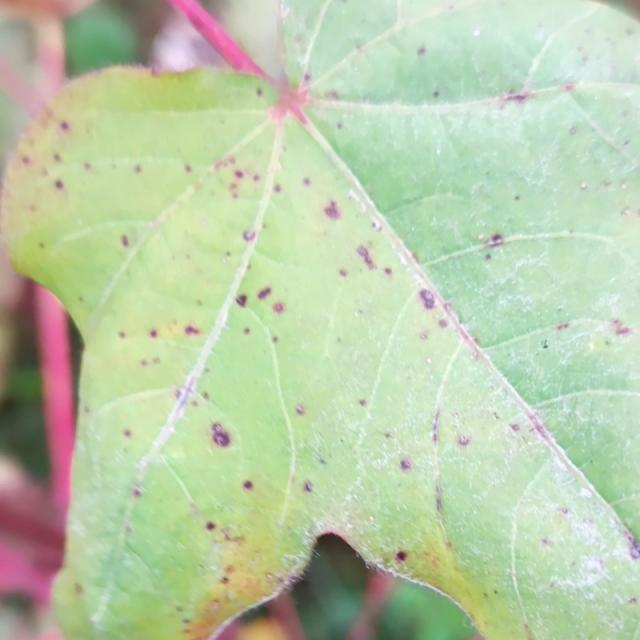Bacterial_Blight: (117, 303, 219, 367), (160, 379, 200, 436), (184, 604, 238, 640), (270, 87, 313, 130), (209, 412, 239, 448), (522, 411, 552, 444), (279, 569, 310, 592), (355, 243, 377, 269), (623, 528, 639, 557), (586, 334, 611, 352), (323, 200, 341, 221), (431, 408, 441, 445), (419, 288, 436, 309), (174, 385, 194, 401), (586, 557, 603, 574), (139, 356, 161, 368), (614, 322, 632, 335), (257, 287, 271, 300), (489, 233, 503, 246), (184, 324, 199, 336), (435, 491, 443, 513), (579, 486, 593, 498), (513, 92, 528, 103), (272, 302, 285, 314), (235, 294, 247, 307), (457, 434, 470, 446), (399, 458, 412, 470), (242, 229, 255, 241), (523, 623, 533, 638), (132, 485, 143, 498), (303, 481, 314, 493), (242, 480, 254, 491), (371, 219, 382, 231), (326, 90, 339, 100), (396, 551, 407, 562), (59, 120, 70, 131), (121, 235, 130, 248), (556, 322, 569, 331), (295, 404, 305, 415), (54, 179, 64, 190), (205, 521, 216, 531), (564, 83, 576, 92), (174, 388, 183, 399), (53, 152, 62, 163), (559, 507, 570, 516), (569, 125, 578, 136), (541, 537, 552, 546), (74, 583, 83, 594), (234, 170, 244, 179), (417, 46, 426, 56), (21, 155, 30, 165), (438, 319, 448, 328), (302, 72, 311, 82), (83, 161, 92, 171), (622, 207, 632, 216), (625, 27, 635, 36), (601, 180, 612, 188), (149, 329, 158, 338), (339, 269, 348, 278), (511, 423, 520, 432), (302, 177, 311, 186), (123, 429, 132, 438), (358, 398, 367, 407), (419, 331, 428, 340), (472, 28, 481, 37), (318, 456, 326, 465), (273, 184, 281, 193), (134, 164, 142, 173), (118, 330, 126, 339), (384, 267, 392, 276), (220, 576, 229, 584), (628, 597, 637, 605), (580, 181, 588, 190), (265, 572, 274, 580), (542, 339, 549, 349), (432, 90, 440, 98), (484, 253, 492, 261), (256, 87, 263, 96), (336, 121, 343, 130), (243, 327, 250, 335), (38, 242, 45, 249), (478, 233, 485, 240), (272, 336, 278, 343), (514, 194, 520, 201)
Cotton: (2, 0, 639, 639)
